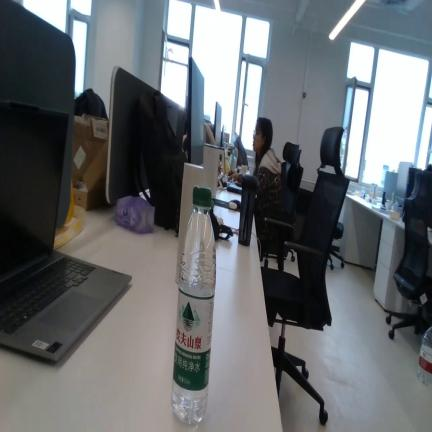bottle: (172, 186, 216, 425), (417, 327, 432, 386)
